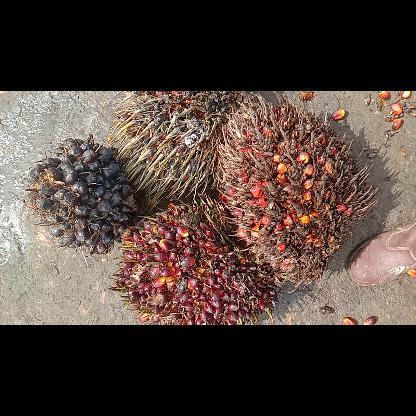TBS abnormal: (111, 90, 253, 198)
TBS masak: (110, 200, 276, 322)
TBS mentah: (24, 134, 138, 252)
Terlalu masak: (216, 91, 378, 287)
